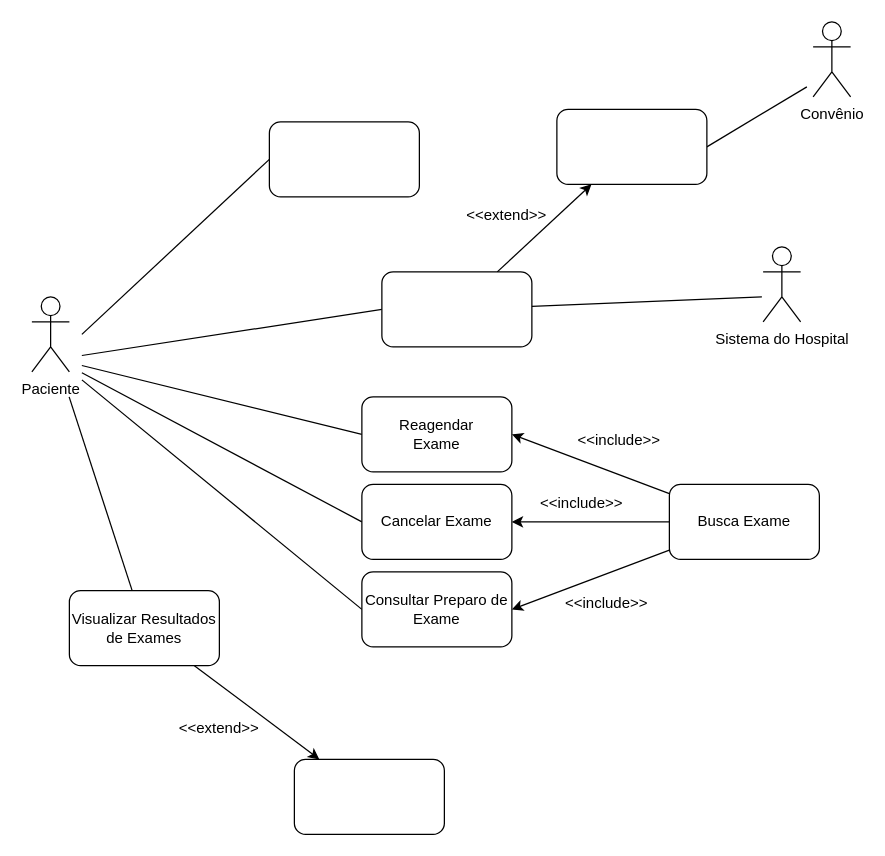
The diagram is 885 pixels wide and 856 high, and some of its shapes have lost their labels. Here are the shapes that lost their labels. From the top down, the box of each, then its label:
(268, 121, 419, 197): Criar Conta
(556, 108, 707, 184): Checar Cobertura de Convênio
(381, 271, 532, 347): Agendar Exames
(293, 758, 444, 834): Encaminhar Exame Para Médico
